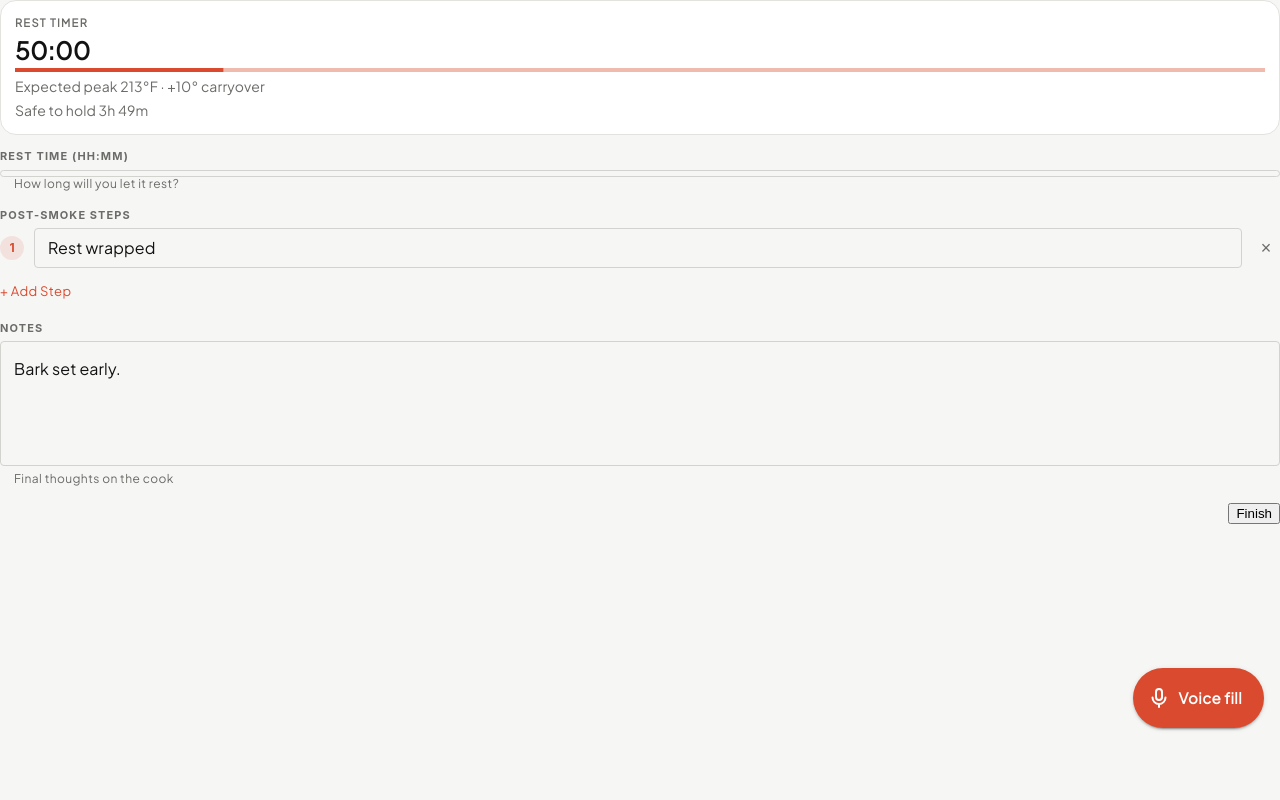
Scenario: Voice Fill on the post-smoke screen › the spoken rest is the rest the Serve Plan reads, at once and once saved
Expected: the text box showing "Bark set early." is shown, [14,357,1266,449]
Click the button "Voice fill" at (1198, 698), box [1133,668,1264,728]
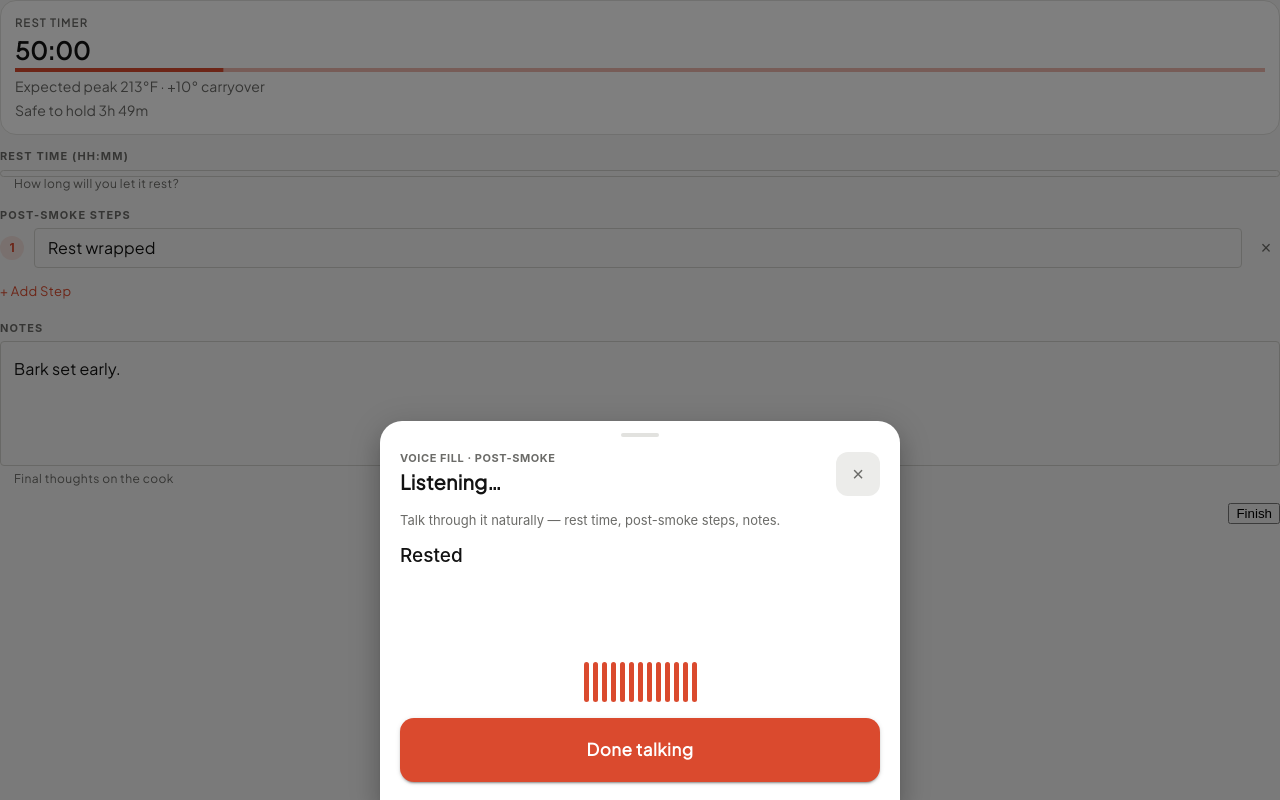
Click the button "Done talking" at (640, 750), box [400,718,880,782]
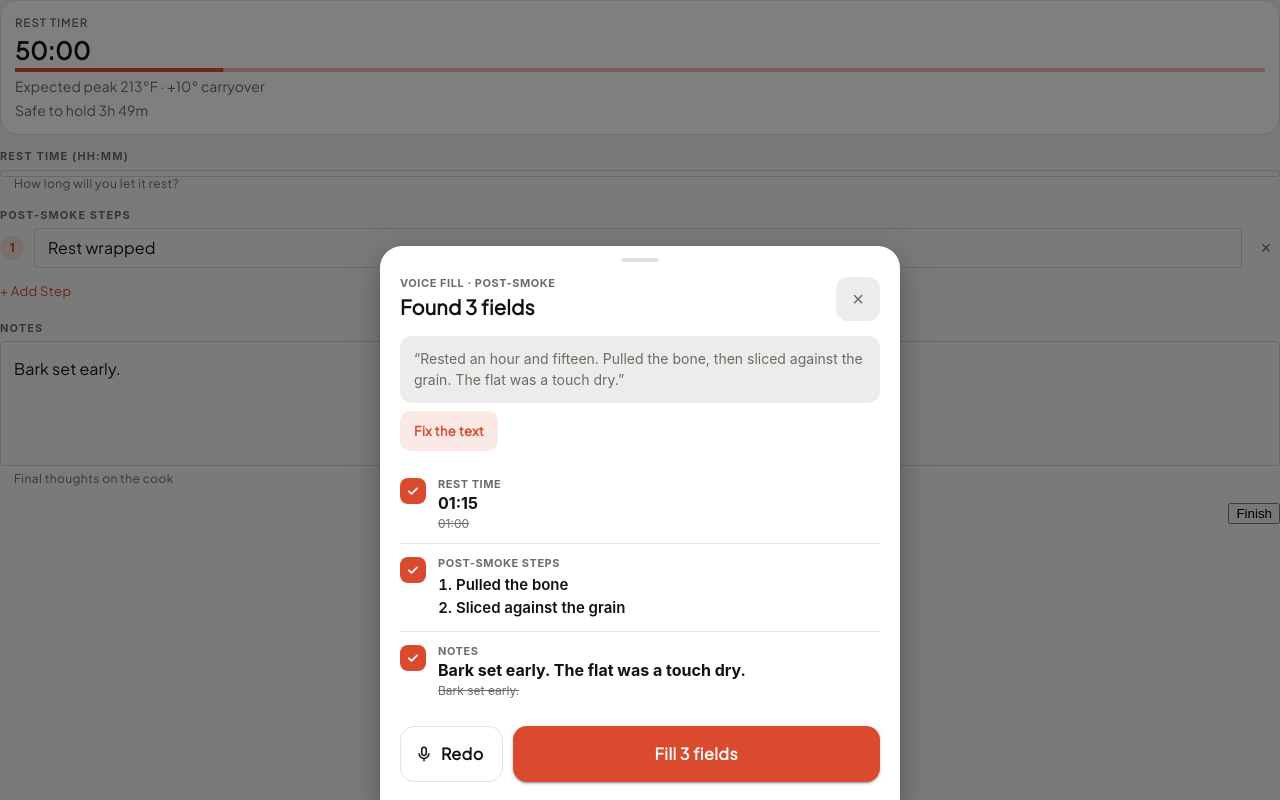
Expected: the text with test id "rest-timer-remaining" reads "50:00", [15,34,90,64]
Click the button "Fill 3 fields" at (696, 754), box [513,726,880,782]
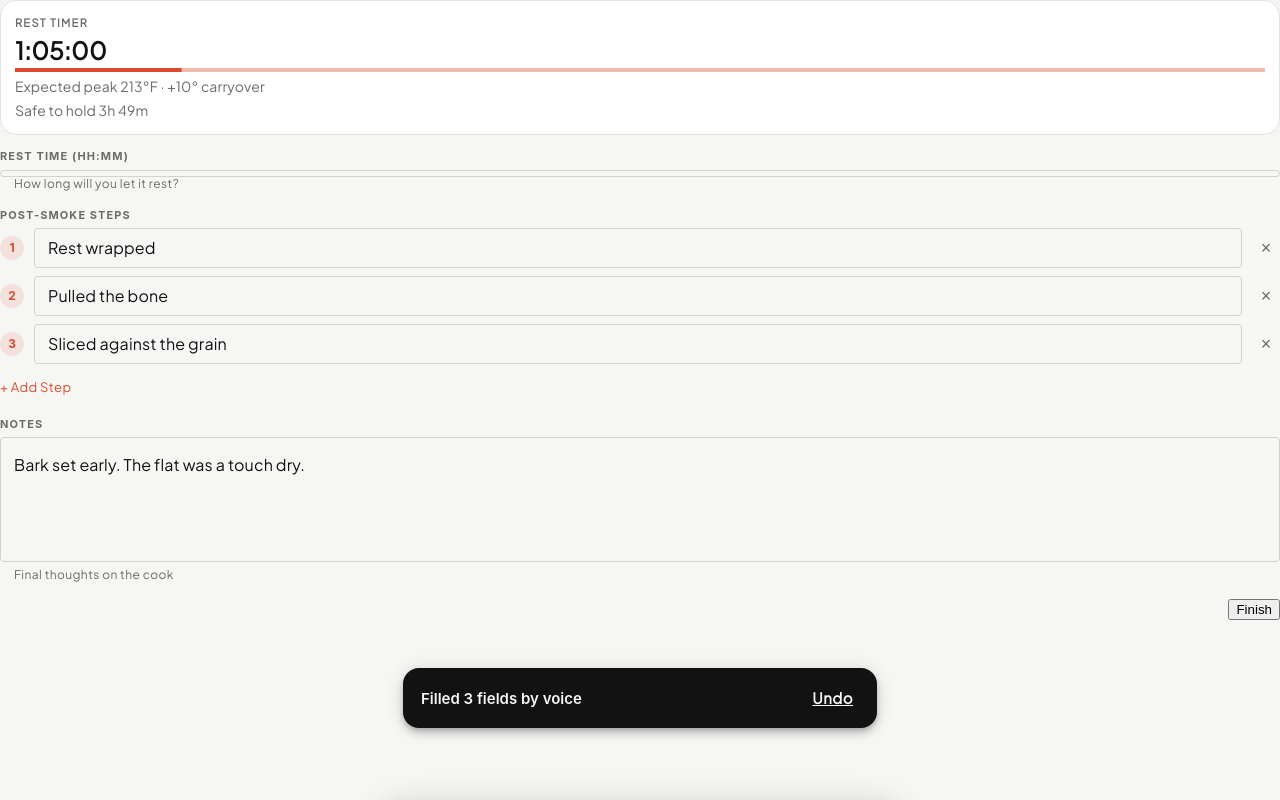
Expected: the text with test id "rest-timer-remaining" reads "1:05:00", [15,34,107,64]
